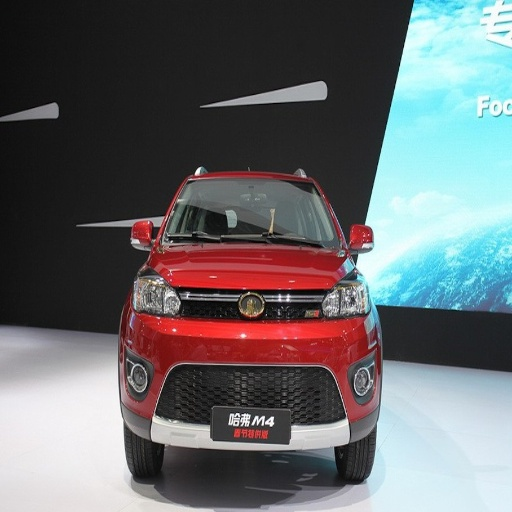front_bumper: (120, 288, 378, 452)
front_right_light: (131, 270, 183, 317)
hood: (147, 244, 355, 289)
